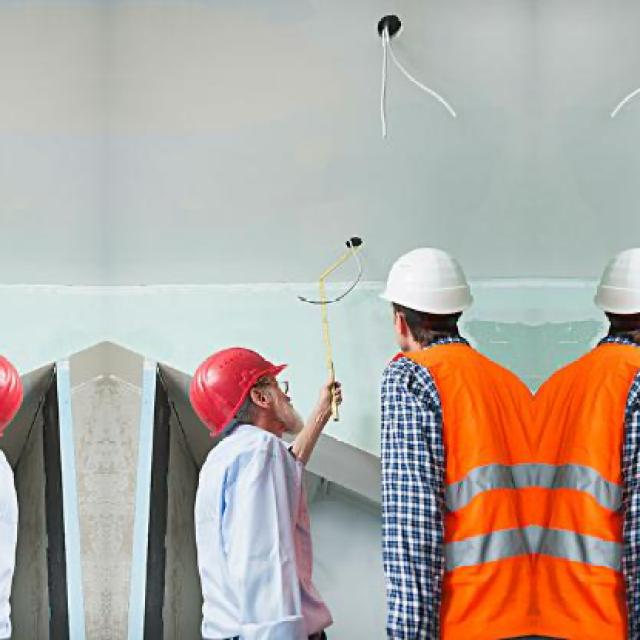con casco: (379, 235, 481, 377), (191, 343, 310, 455)
